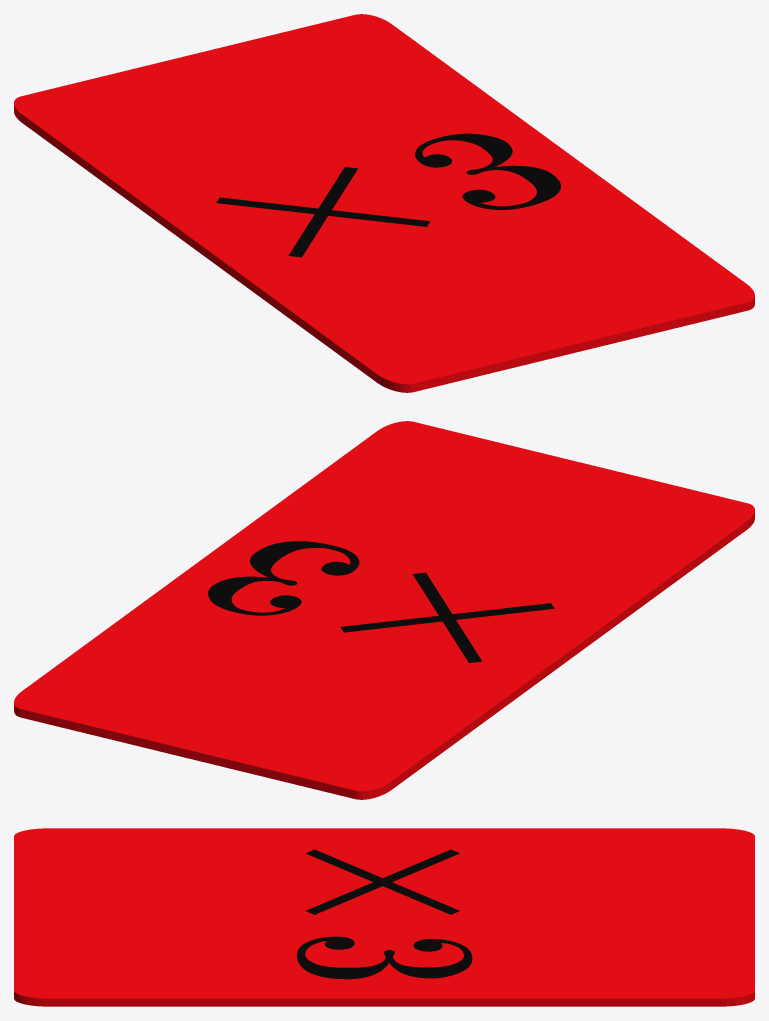
The model's file is Card_Three .fbx.
The picture shows the model from 3 angles, top to bottom: view 1: azimuth 30°, elevation 25°; view 2: azimuth 150°, elevation 25°; view 3: azimuth 270°, elevation 25°; orthographic projection. The views are drawn at different scales.
Parts seen in each view (by area): view 1: Cube, Text.001; view 2: Cube, Text.001; view 3: Cube, Text.001.
Part boxes in pixels (x1=…): Cube: x1=14, y1=14, x2=754, y2=392; Text.001: x1=216, y1=133, x2=560, y2=257; Cube: x1=14, y1=421, x2=754, y2=799; Text.001: x1=208, y1=541, x2=554, y2=662; Cube: x1=14, y1=828, x2=754, y2=1006; Text.001: x1=297, y1=849, x2=472, y2=979.
Bounding box in the file's own units: 109 × 4 × 200.
